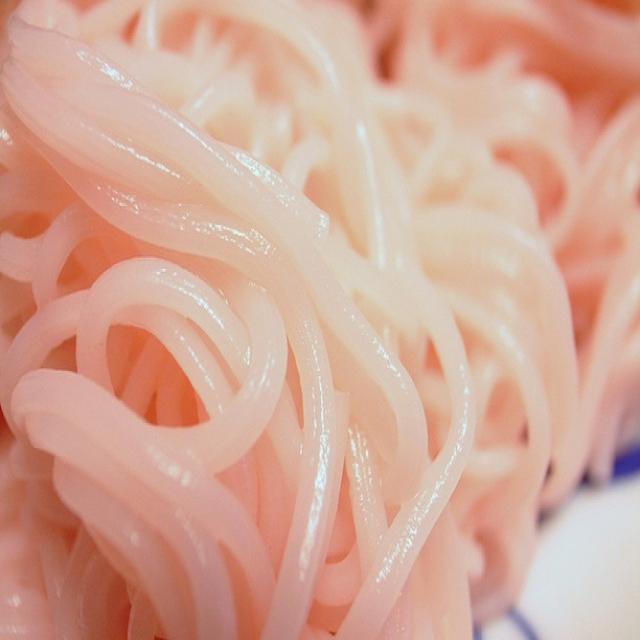刺身生食: (16, 196, 309, 554)
汤锅炖物: (460, 256, 634, 483)
